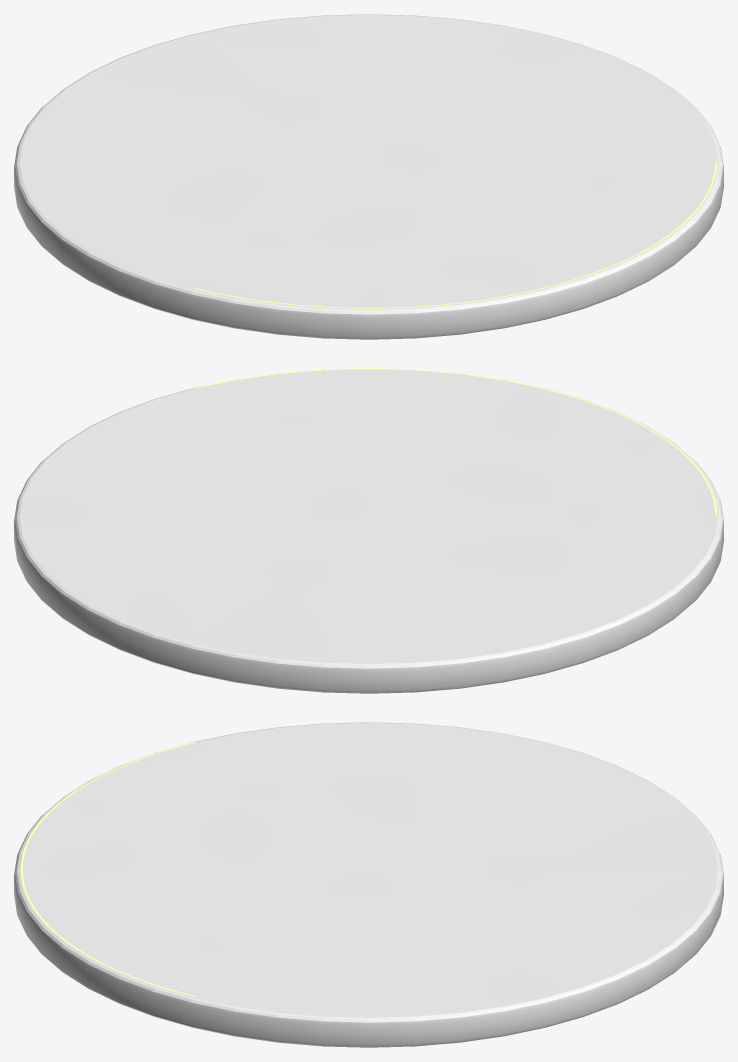
File: platform.glb
The picture shows the model from 3 angles, top to bottom: view 1: azimuth 30°, elevation 25°; view 2: azimuth 150°, elevation 25°; view 3: azimuth 270°, elevation 25°; orthographic projection.
Parts seen in each view (by area): view 1: PLATFORM_TIDE_LOD0, PLATFORM_TIDE_AMBER_ARC; view 2: PLATFORM_TIDE_LOD0, PLATFORM_TIDE_AMBER_ARC; view 3: PLATFORM_TIDE_LOD0, PLATFORM_TIDE_AMBER_ARC.
Part boxes in pixels (x1,y1,x2,y2): PLATFORM_TIDE_LOD0: [14, 14, 723, 339]; PLATFORM_TIDE_AMBER_ARC: [195, 161, 717, 308]; PLATFORM_TIDE_LOD0: [14, 369, 723, 693]; PLATFORM_TIDE_AMBER_ARC: [195, 368, 716, 515]; PLATFORM_TIDE_LOD0: [14, 722, 723, 1047]; PLATFORM_TIDE_AMBER_ARC: [20, 742, 195, 996].
Bounding box in the file's own units: 4.4 × 0.206 × 4.4.
Materials: 2 (1 with a texture image).
